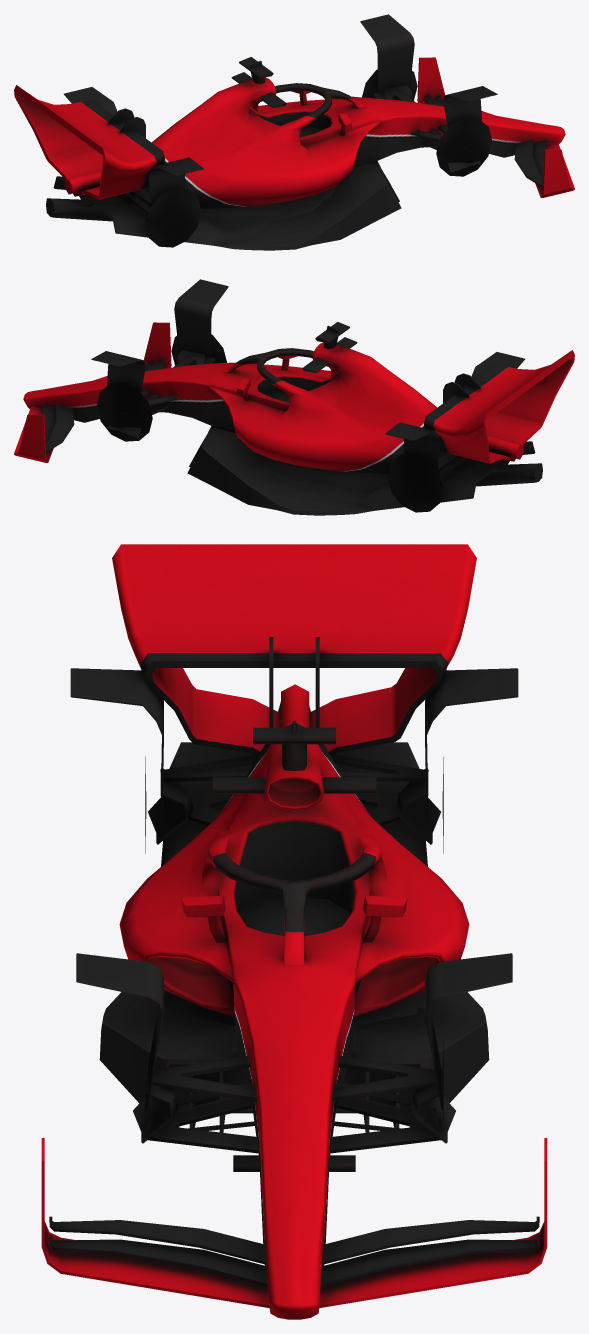
Rendered from f1_car_17.dae.
3 views of the same model, one above another, from view 1: azimuth 30°, elevation 25°; view 2: azimuth 150°, elevation 25°; view 3: azimuth 270°, elevation 25° (orthographic). The views are drawn at different scales.
Parts seen in each view (by area): view 1: F1_Car; view 2: F1_Car; view 3: F1_Car.
Boxes of the visible parts, bbox=[...] form: F1_Car: bbox=[14, 14, 574, 250]; F1_Car: bbox=[14, 279, 574, 515]; F1_Car: bbox=[41, 544, 547, 1319].
Size of the model in its own units: 34.44 by 14.7 by 9.69.
1 material, 1 textured.
